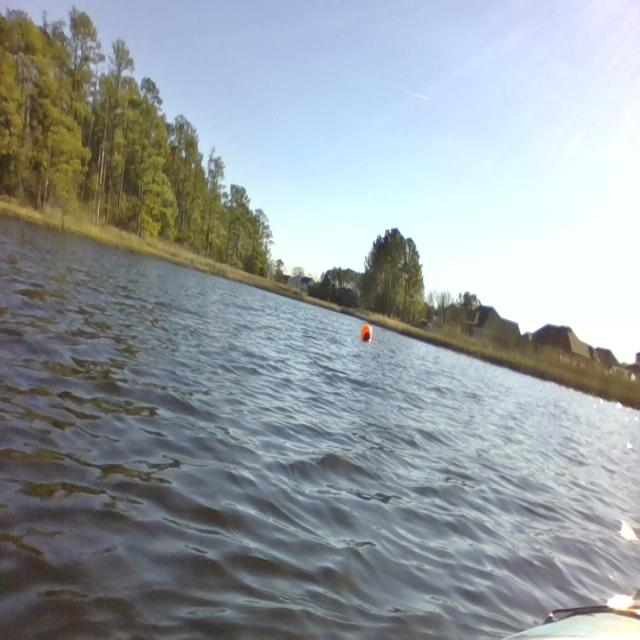Buoy: (359, 319, 374, 349)
